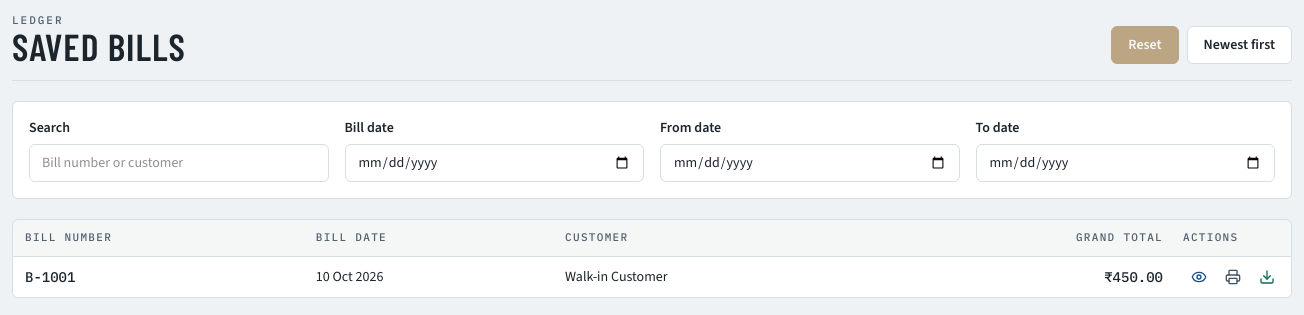
Test: starts as Newest first and toggles to Oldest first
The width and height of the screenshot is (1304, 315).
Expected: the text "B-1001" is shown, [13, 256, 304, 297]
Click the button "Newest first": [1239, 45] box [1186, 26, 1292, 64]
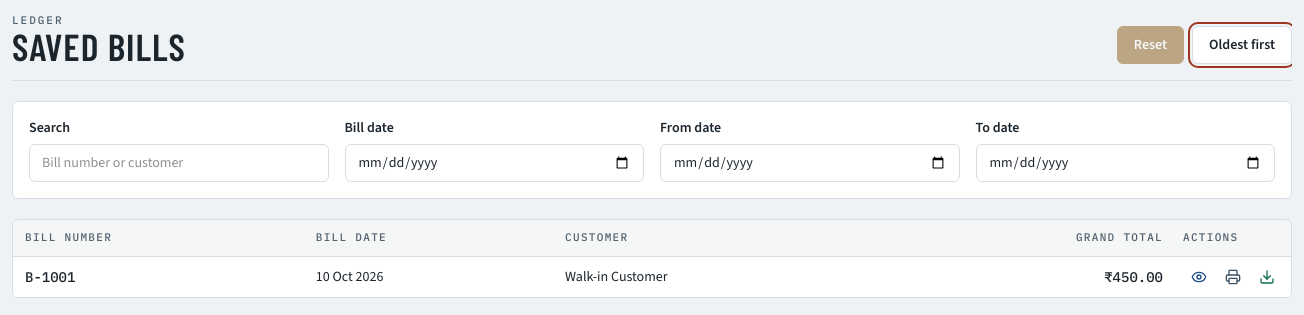
Now the button "Oldest first" is shown, box [1192, 26, 1292, 64]
